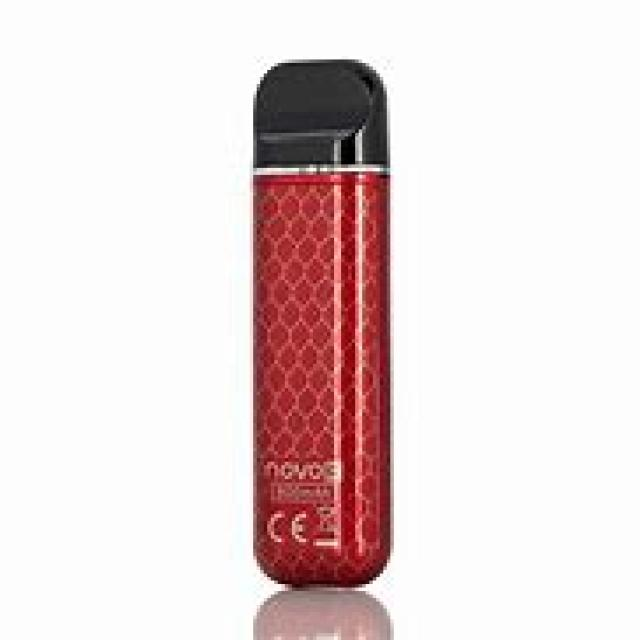Hazard: (250, 56, 390, 587)
